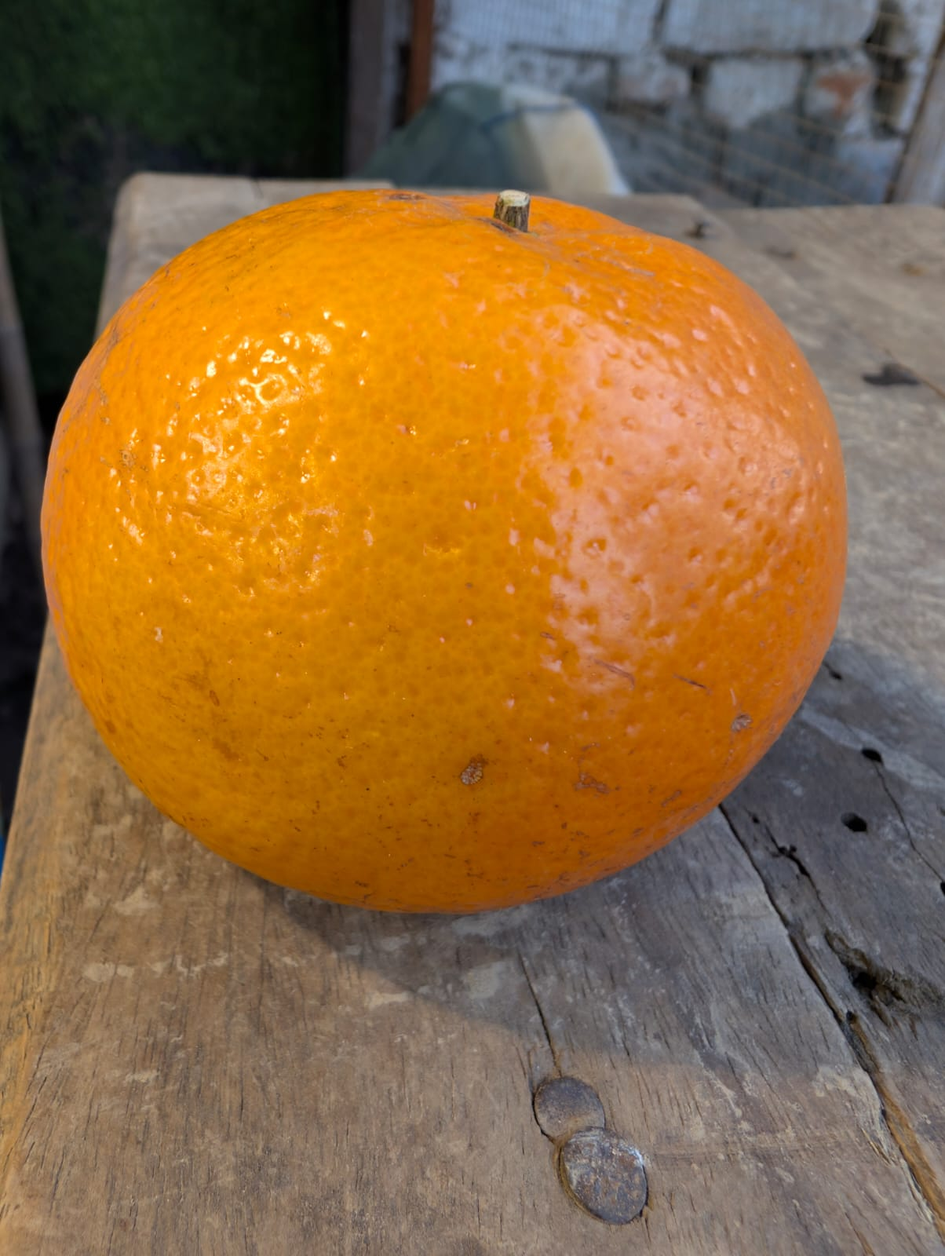orange: (95, 310, 723, 1136)
